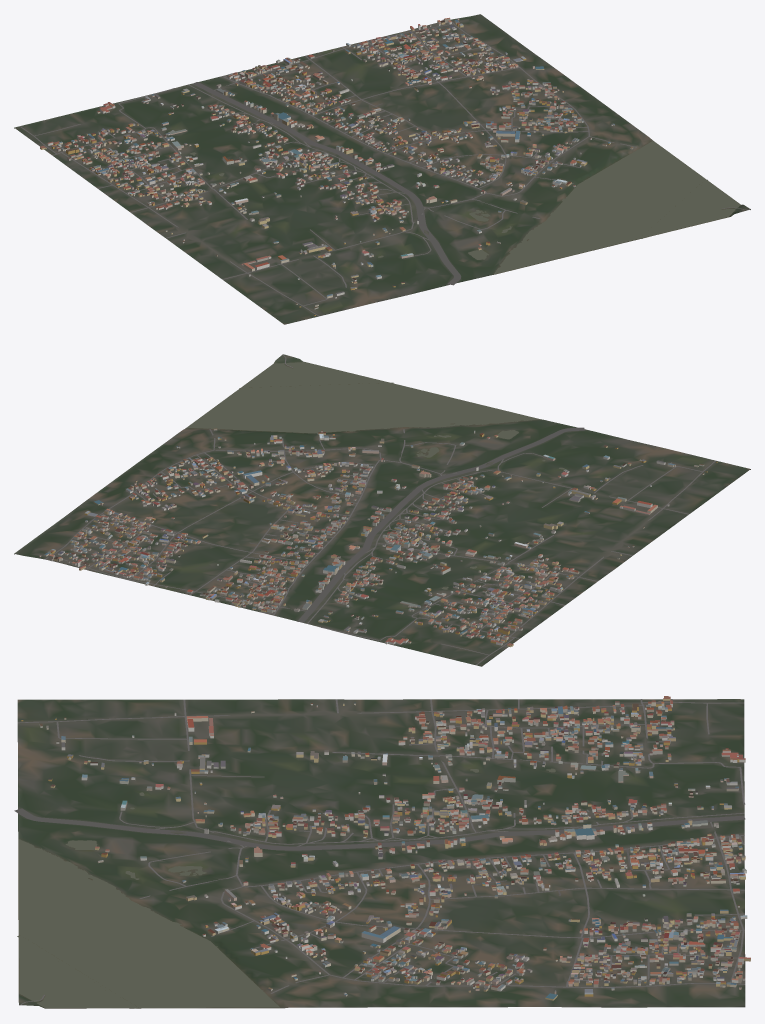
The picture shows the model from 3 angles, top to bottom: view 1: azimuth 30°, elevation 25°; view 2: azimuth 150°, elevation 25°; view 3: azimuth 270°, elevation 25°; orthographic projection. The views are drawn at different scales.
Parts seen in each view (by area): view 1: ground, buildings, water, roads; view 2: ground, buildings, water, roads; view 3: ground, buildings, water, roads.
Boxes of the visible parts, box(x1,y1,x2,y2) form: ground: box(14, 14, 750, 324); buildings: box(40, 17, 633, 315); water: box(190, 141, 740, 274); roads: box(19, 20, 749, 316); ground: box(14, 354, 750, 666); buildings: box(39, 428, 717, 647); water: box(187, 362, 564, 589); roads: box(45, 354, 715, 665); ground: box(17, 699, 745, 1008); buildings: box(21, 696, 750, 1000); water: box(17, 768, 555, 1008); roads: box(14, 699, 745, 1005).
Bounding box in the file's own units: 1413 × 25.39 × 1422.
